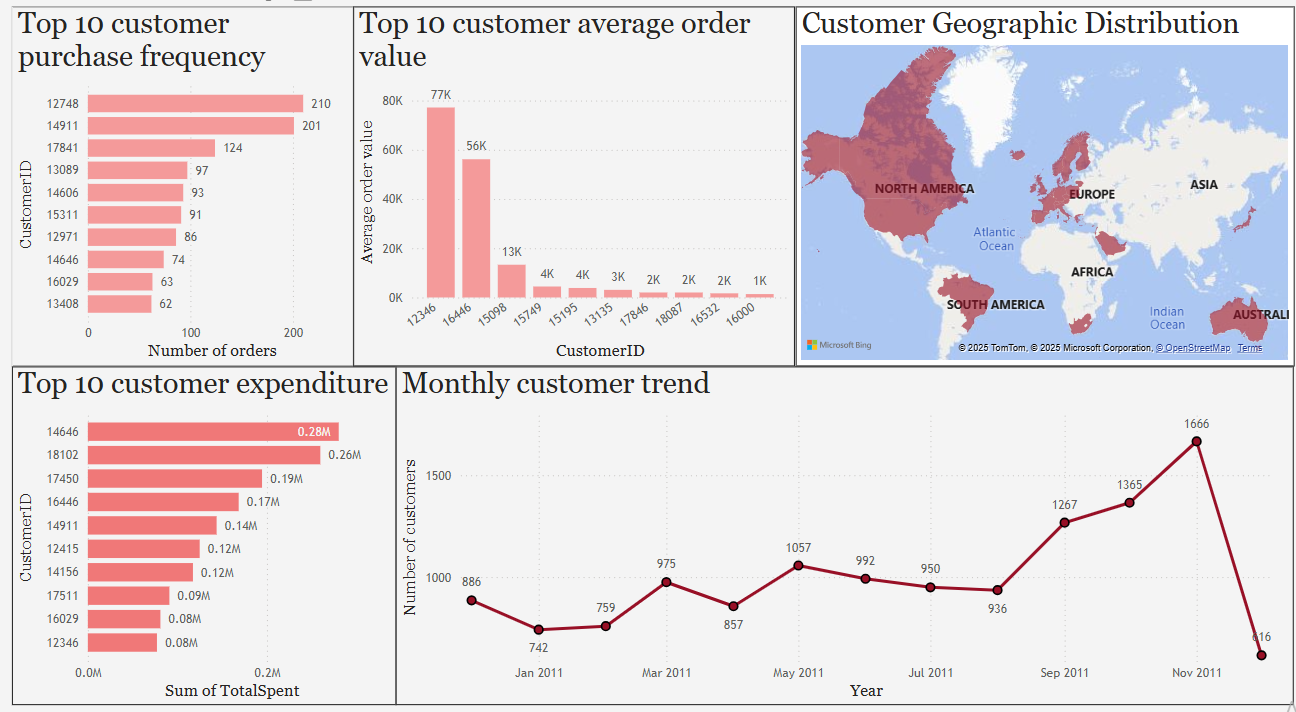

This screenshot's page, from the dashboard's own definition file:
{"tool":"powerbi","page":{"name":"Customer Insights","canvas":[1280,720],"ordinal":2},"visuals":[{"type":"clusteredBarChart","title":"Top 10 customer purchase frequency","fields":{"Category":["_Customer_purchase_frequency_SELECT_CustomerID_COUNT_DISTINCT_In_202502171656.CustomerID"],"Y":["Sum(_Customer_purchase_frequency_SELECT_CustomerID_COUNT_DISTINCT_In_202502171656.NumberOfOrders)"]},"box":[14.4,27.3,334.4,351.6],"z":0},{"type":"clusteredColumnChart","title":"Top 10 customer average order value","fields":{"Category":["_Customer_purchase_frequency_SELECT_CustomerID_COUNT_DISTINCT_In_202502171656.CustomerID"],"Y":["Sum(_Customer_purchase_frequency_SELECT_CustomerID_COUNT_DISTINCT_In_202502171656.AverageOrderValue)"]},"box":[348.8,27.3,432,351.6],"z":1000},{"type":"clusteredBarChart","title":"Top 10 customer expenditure","fields":{"Category":["_Customer_purchase_frequency_SELECT_CustomerID_COUNT_DISTINCT_In_202502171656.CustomerID"],"Y":["Sum(_Customer_purchase_frequency_SELECT_CustomerID_COUNT_DISTINCT_In_202502171656.TotalSpent)"]},"box":[14.4,378.9,376,331.6],"z":2000},{"type":"lineChart","title":"Monthly customer trend","fields":{"Y":["Sum(_Monthly_revenue_trend_SELECT_strftime_Y_m_InvoiceDate_as_Month__202502171655.NumberOfCustomers)"],"Category":["_Monthly_revenue_trend_SELECT_strftime_Y_m_InvoiceDate_as_Month__202502171655.Month.Variation.Date Hierarchy.Year","_Monthly_revenue_trend_SELECT_strftime_Y_m_InvoiceDate_as_Month__202502171655.Month.Variation.Date Hierarchy.Quarter","_Monthly_revenue_trend_SELECT_strftime_Y_m_InvoiceDate_as_Month__202502171655.Month.Variation.Date Hierarchy.Month","_Monthly_revenue_trend_SELECT_strftime_Y_m_InvoiceDate_as_Month__202502171655.Month.Variation.Date Hierarchy.Day"]},"box":[390.4,378.9,878.4,331.6],"z":3000},{"type":"filledMap","title":"Customer Geographic Distribution","fields":{"Category":["_Basic_sales_analysis_Total_revenue_by_country_SELECT_Country_RO_202502171647.Country"]},"box":[780.8,27.3,488,351.6],"z":4000}]}

Visuals, with their boxes in screenshot pixels (x1, y1, x2, y2), scaled from the page's 1280x720 canvas onto the 1296x712 screenshot:
"Top 10 customer purchase frequency" clusteredBarChart: l=15, t=27, r=353, b=375
"Top 10 customer average order value" clusteredColumnChart: l=353, t=27, r=791, b=375
"Top 10 customer expenditure" clusteredBarChart: l=15, t=375, r=395, b=703
"Monthly customer trend" lineChart: l=395, t=375, r=1285, b=703
"Customer Geographic Distribution" filledMap: l=791, t=27, r=1285, b=375
